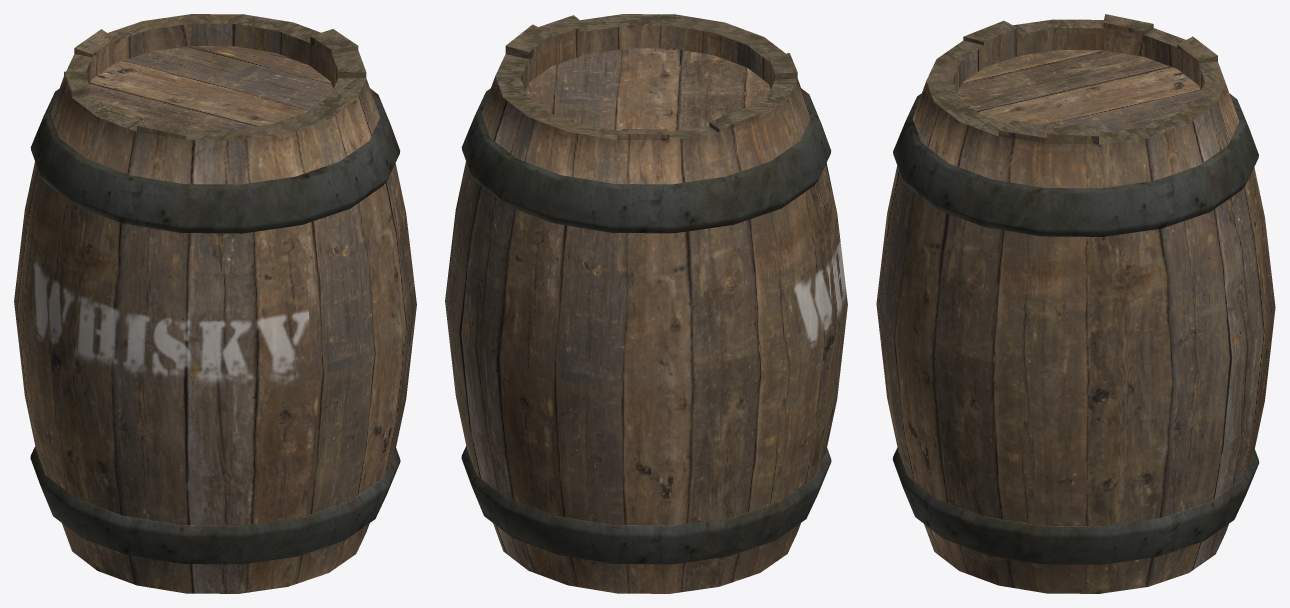
File: Barrel_Whisky.FBX
3 renders of one model, left to right at view 1: azimuth 30°, elevation 25°; view 2: azimuth 150°, elevation 25°; view 3: azimuth 270°, elevation 25°, orthographic.
Visible parts, largest first — view 1: Barrel003; view 2: Barrel003; view 3: Barrel003.
Boxes of the visible parts, box(x1,y1,x2,y2) form: Barrel003: box(14, 14, 416, 593); Barrel003: box(445, 14, 847, 593); Barrel003: box(876, 14, 1275, 593).
Size of the model in its own units: 1.41 by 1.82 by 1.43.
Materials: 1 (1 with a texture image).
